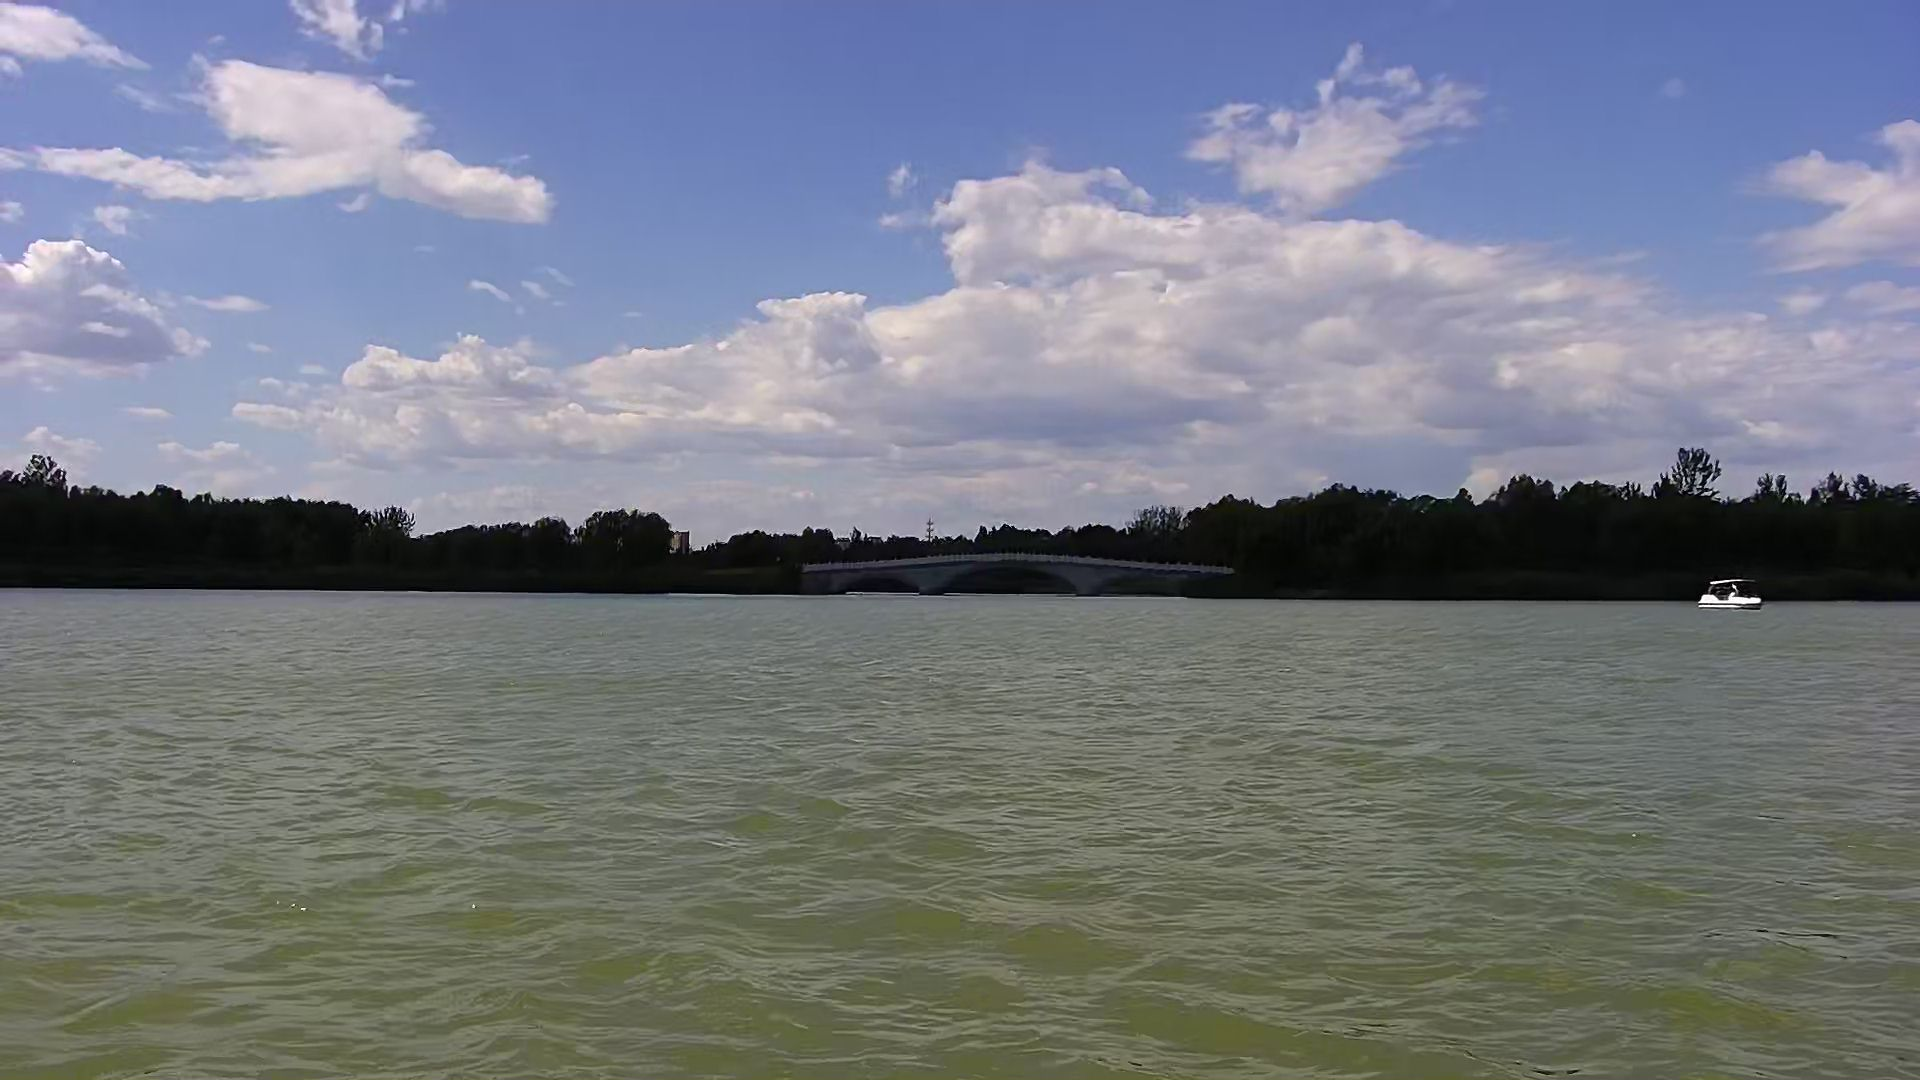boat: (1695, 570, 1766, 617)
bridge: (789, 550, 1255, 607)
